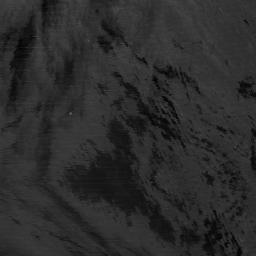Target: (67, 111, 73, 116)
